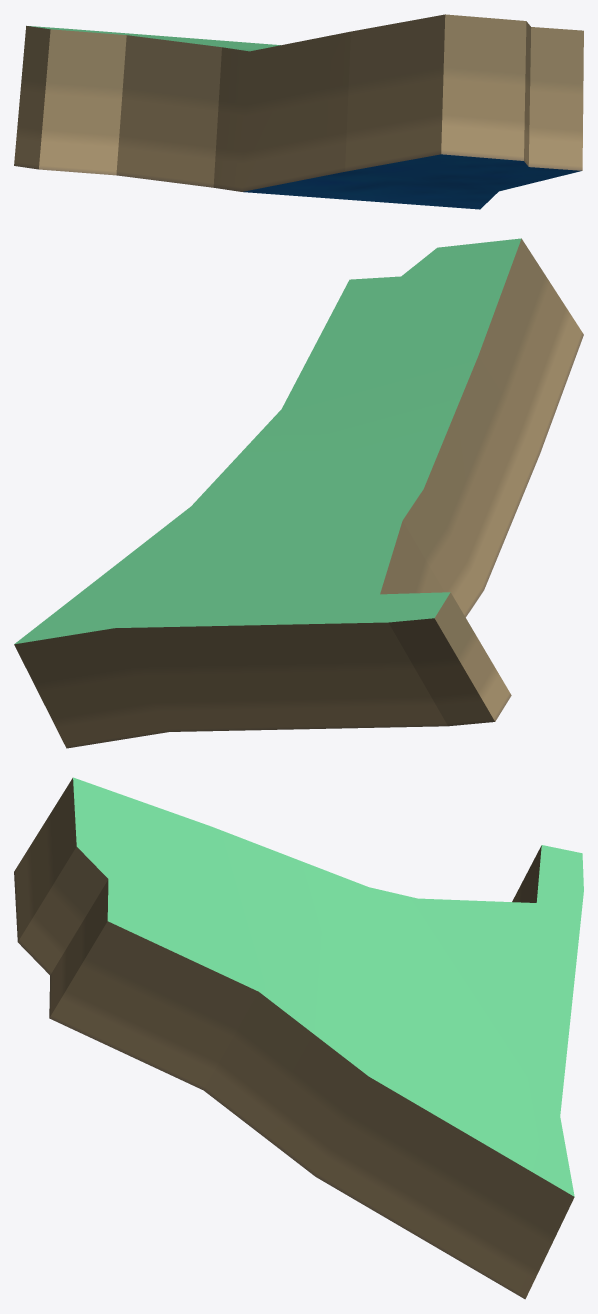
File: 0657_Namibia.glb
3 renders of one model, top to bottom at view 1: azimuth 30°, elevation 25°; view 2: azimuth 150°, elevation 25°; view 3: azimuth 270°, elevation 25°, orthographic.
Parts seen in each view (by area): view 1: part_0; view 2: part_0; view 3: part_0.
Part boxes in pixels (x1,y1,x2,y2): part_0: [14, 14, 583, 209]; part_0: [14, 238, 583, 748]; part_0: [14, 777, 583, 1299].
Bounding box in the file's own units: 0.7612 × 0.6361 × 0.8057.
1 material, 1 textured.
